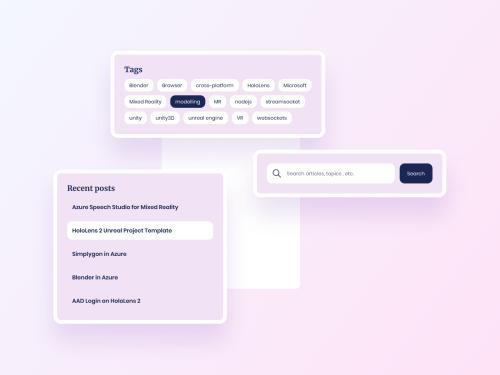button: (68, 222, 214, 240), (400, 164, 435, 186), (261, 95, 307, 109), (191, 80, 239, 93), (185, 113, 229, 125), (253, 112, 293, 125), (125, 96, 168, 108), (243, 79, 276, 94), (172, 95, 207, 109), (280, 80, 313, 94), (159, 78, 189, 93), (152, 111, 181, 125), (230, 95, 257, 110), (126, 80, 154, 92), (125, 112, 148, 124), (210, 95, 227, 109), (233, 111, 250, 125)
input: (266, 164, 397, 186)
label: (73, 205, 181, 212), (66, 183, 118, 194), (72, 299, 143, 306), (74, 251, 129, 259), (71, 274, 120, 282), (122, 65, 146, 76)
